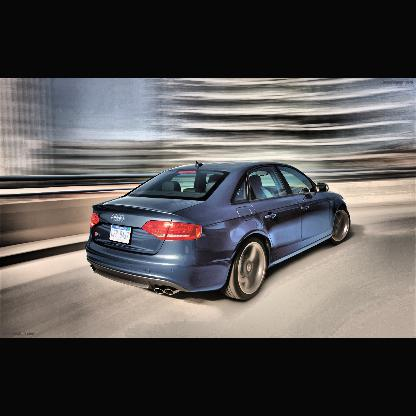Audi S4 Sedan 2012: (86, 161, 352, 302)
